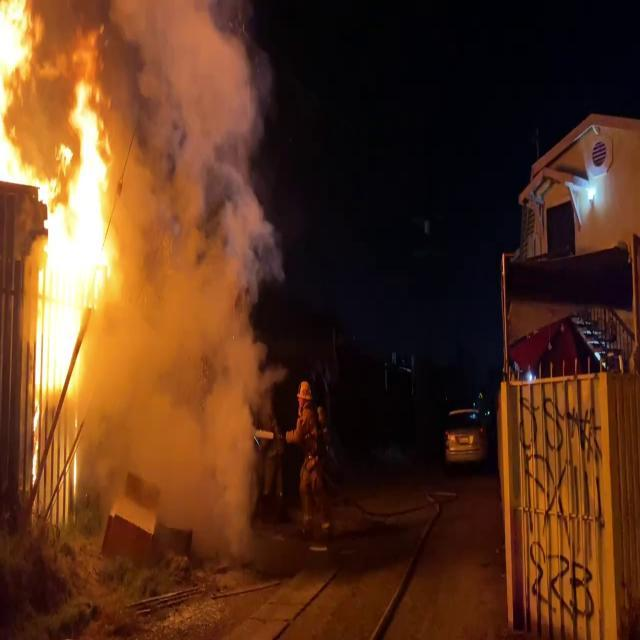Fire: (0, 0, 118, 403)
Smoke: (89, 1, 281, 540)
